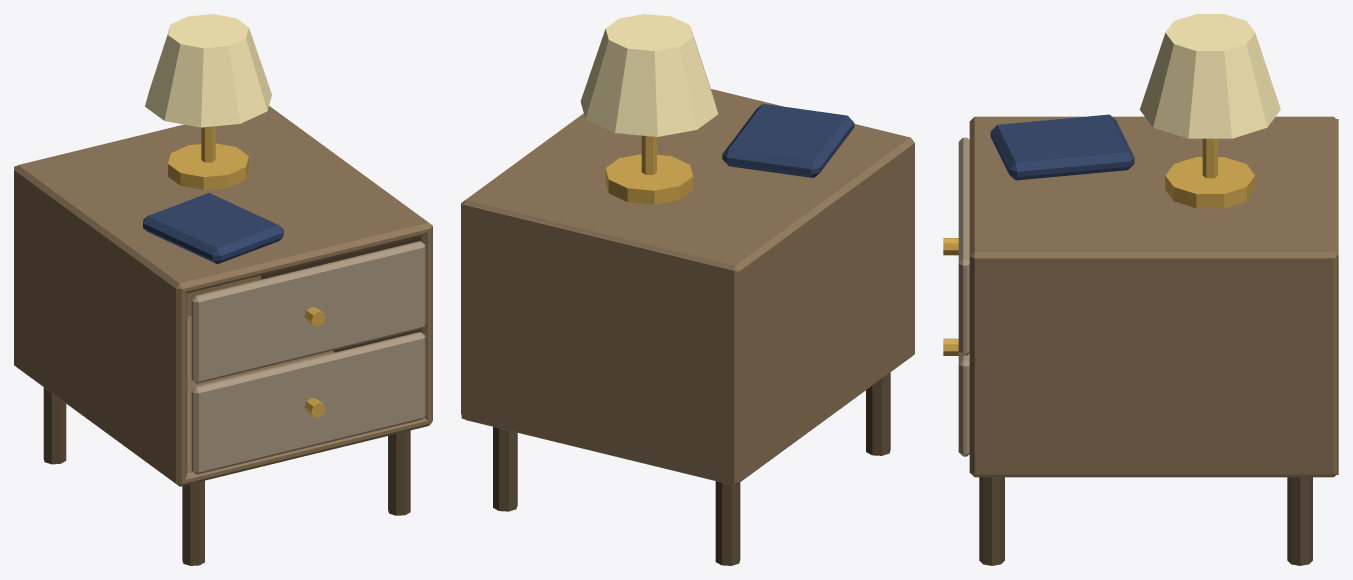
The model's file is nightstand.glb.
3 views of the same model, side by side, from view 1: azimuth 30°, elevation 25°; view 2: azimuth 150°, elevation 25°; view 3: azimuth 270°, elevation 25° (orthographic). The views are drawn at different scales.
Visible parts, largest first — view 1: nightstand_Body; view 2: nightstand_Body; view 3: nightstand_Body.
Boxes of the visible parts, x1=… form: nightstand_Body: x1=14, y1=14, x2=432, y2=565; nightstand_Body: x1=461, y1=14, x2=914, y2=565; nightstand_Body: x1=943, y1=14, x2=1338, y2=565.
Bounding box in the file's own units: 0.5 × 0.8 × 0.6.
